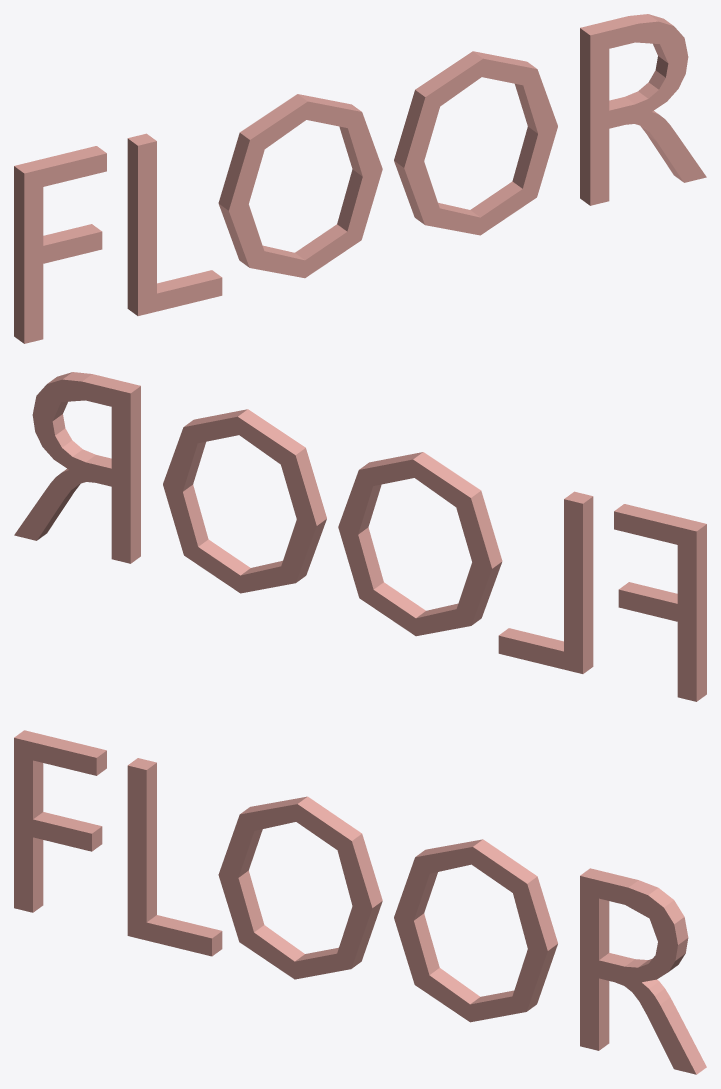
File: inscription.fbx
The picture shows the model from 3 angles, top to bottom: view 1: azimuth 30°, elevation 25°; view 2: azimuth 150°, elevation 25°; view 3: azimuth 330°, elevation 25°; orthographic projection.
Parts seen in each view (by area): view 1: Extrude_1; view 2: Extrude_1; view 3: Extrude_1.
Boxes of the visible parts, x1,y1,x2,y2 form: Extrude_1: (14,14,706,343); Extrude_1: (14,372,706,701); Extrude_1: (14,730,706,1074).
Bounding box in the file's own units: 38.15 × 9.41 × 1.
